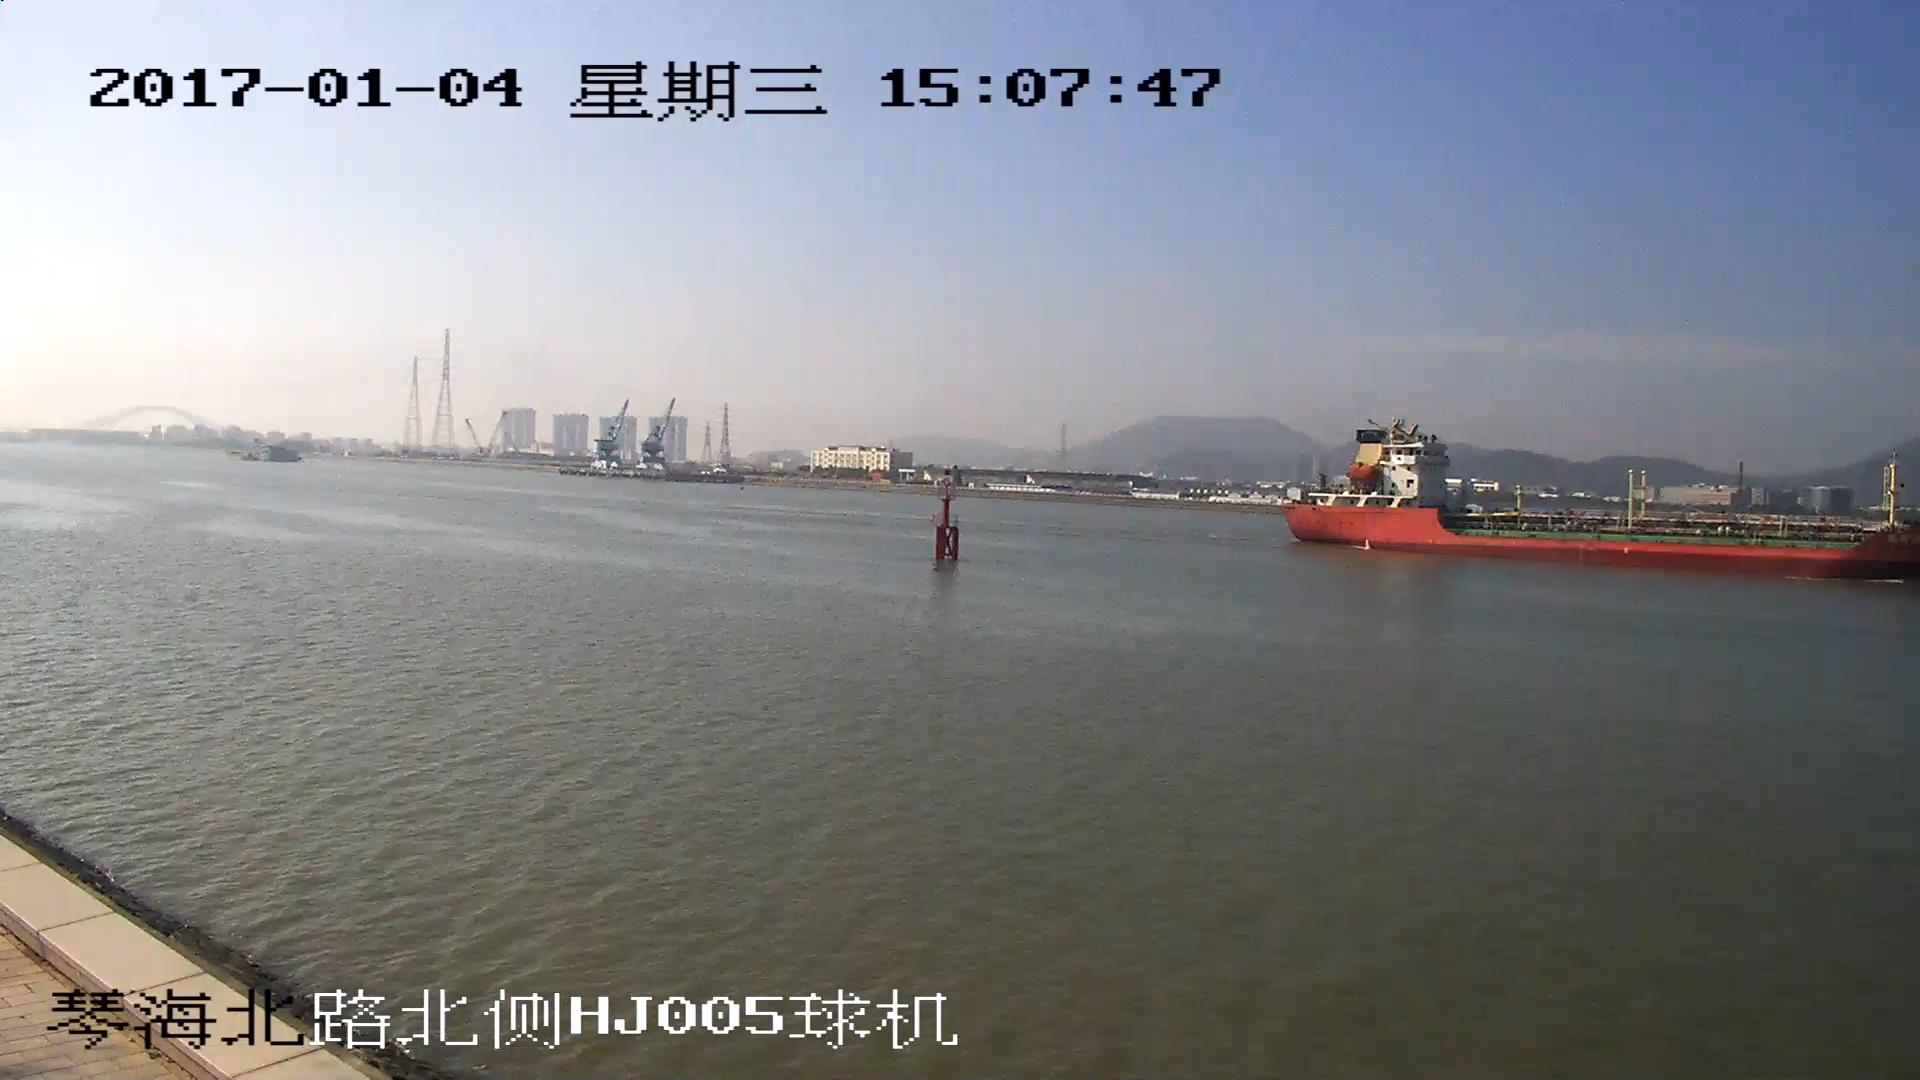general cargo ship: (1285, 426, 1920, 582)
